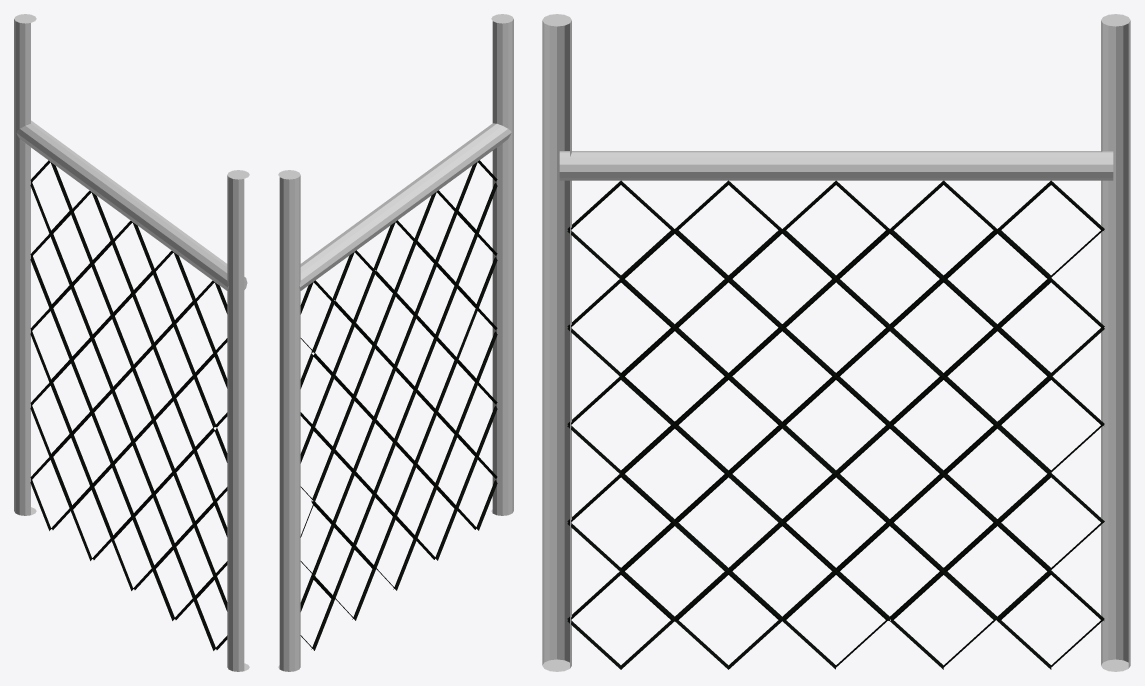
Rendered from Metal_Fence_023.fbx.
3 views of the same model, side by side, from view 1: azimuth 30°, elevation 25°; view 2: azimuth 150°, elevation 25°; view 3: azimuth 270°, elevation 25° (orthographic). The views are drawn at different scales.
Visible parts, largest first — view 1: Metal Fence.023; view 2: Metal Fence.023; view 3: Metal Fence.023.
Part boxes in pixels (left/top/right/bottom): Metal Fence.023: left=14, top=14, right=249, bottom=671; Metal Fence.023: left=278, top=14, right=513, bottom=671; Metal Fence.023: left=542, top=14, right=1130, bottom=671.
Bounding box in the file's own units: 25.89 × 624 × 513.
